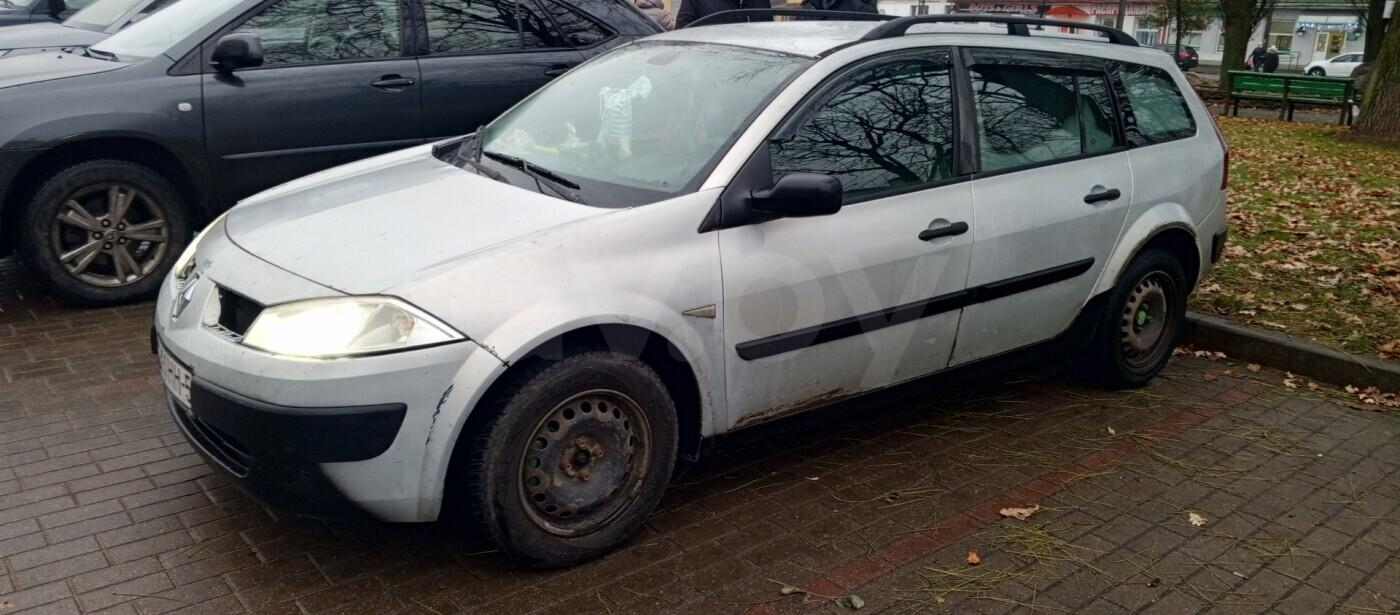Megane_2002-2006: (145, 1, 1235, 572)
